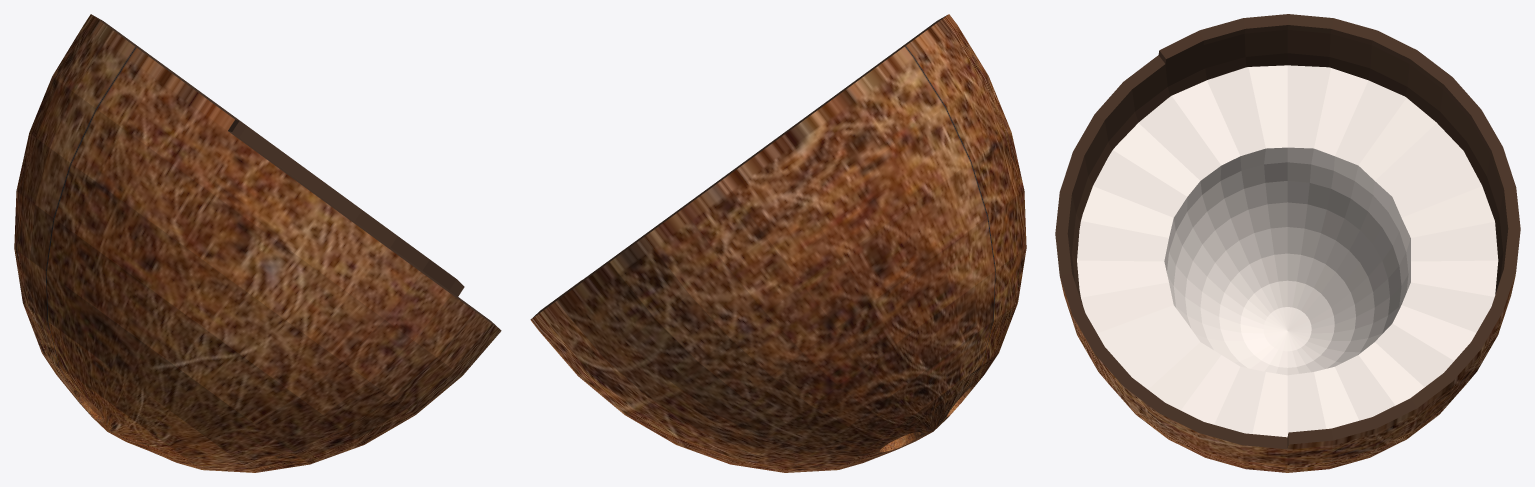
The model's file is HalfCoconut.fbx.
3 renders of one model, left to right at view 1: azimuth 30°, elevation 25°; view 2: azimuth 150°, elevation 25°; view 3: azimuth 270°, elevation 25°, orthographic. The views are drawn at different scales.
Parts seen in each view (by area): view 1: HalfCoconut; view 2: HalfCoconut; view 3: HalfCoconut.
Boxes of the visible parts, box(x1,y1,x2,y2) form: HalfCoconut: box(14, 14, 501, 472); HalfCoconut: box(530, 14, 1026, 472); HalfCoconut: box(1055, 14, 1520, 472).
Size of the model in its own units: 11.65 by 11.45 by 12.52.
Materials: 3 (1 with a texture image).
